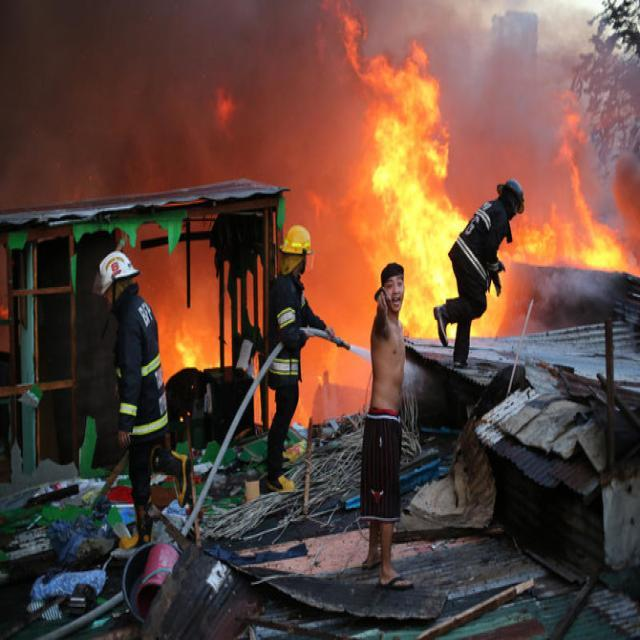Fire: (554, 122, 625, 277), (380, 112, 456, 244), (412, 242, 436, 343), (175, 333, 216, 369)
Smoke: (0, 4, 555, 222)
